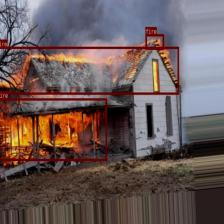fire: (0, 46, 178, 94), (0, 98, 106, 159), (145, 34, 164, 49)
